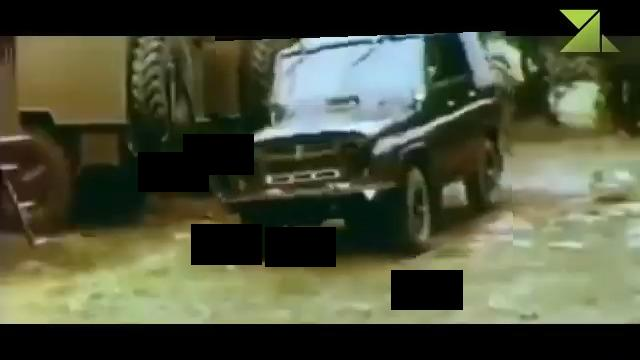MIL_HMMWV: (217, 26, 512, 261)
